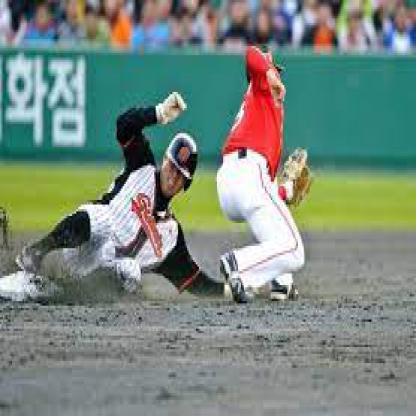Fall_Down: (7, 88, 251, 308)
